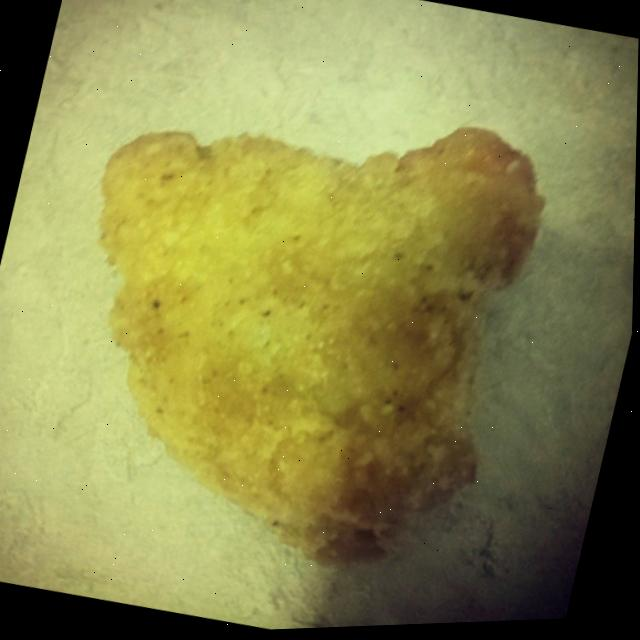鸡肉料理 含炸鸡: (5, 19, 594, 604)
